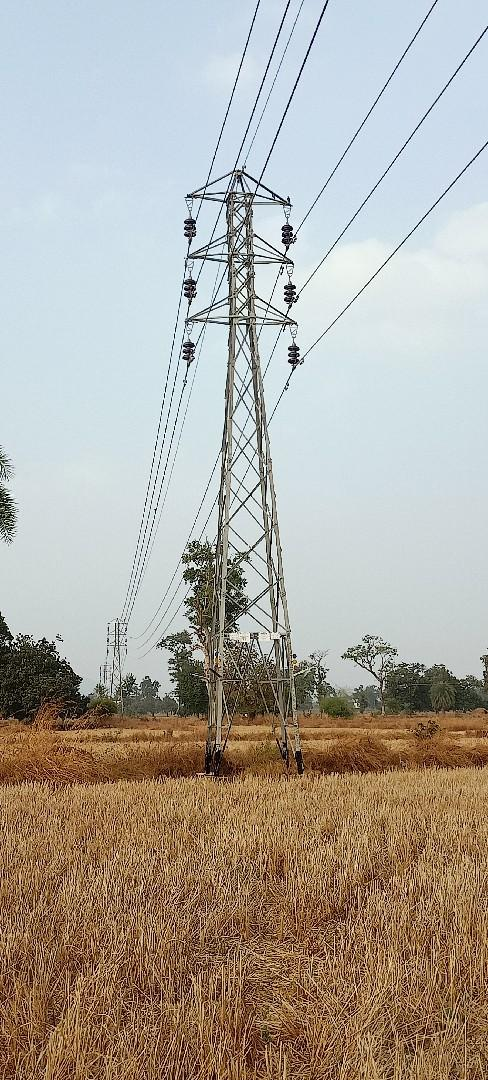GSM Antenna: (176, 166, 317, 734)
